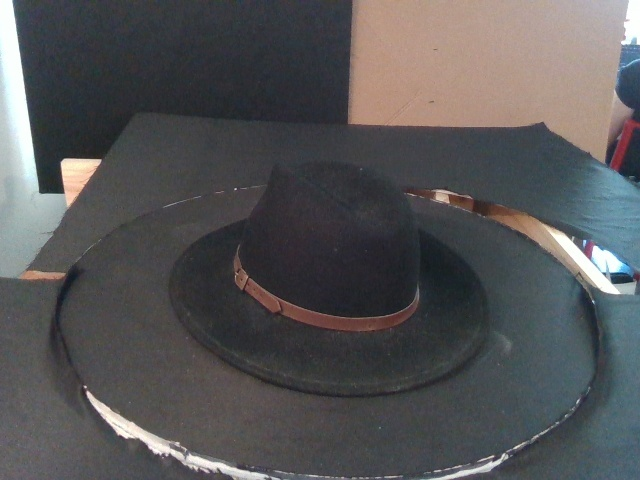hat: (171, 161, 489, 397)
